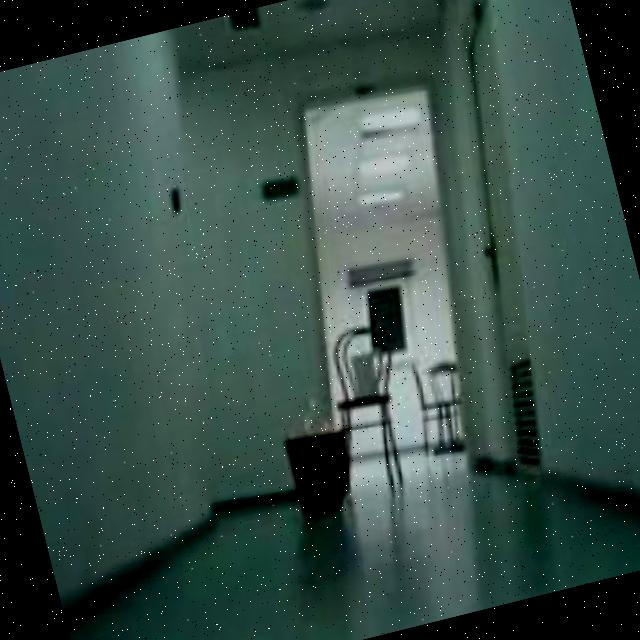fire: (287, 392, 321, 440)
